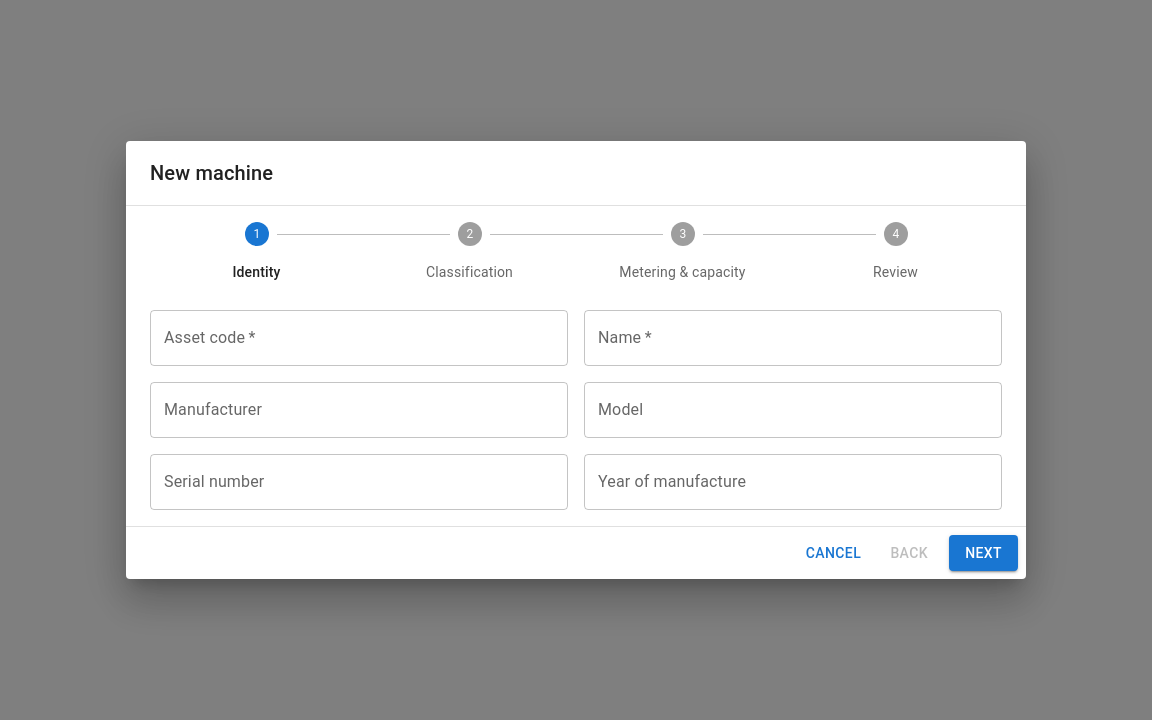
it: CreateMachineDialog › blocks Next while required identity fields are empty
Click the button "Next". click: {"x": 984, "y": 553}
box: [949,535,1018,571]
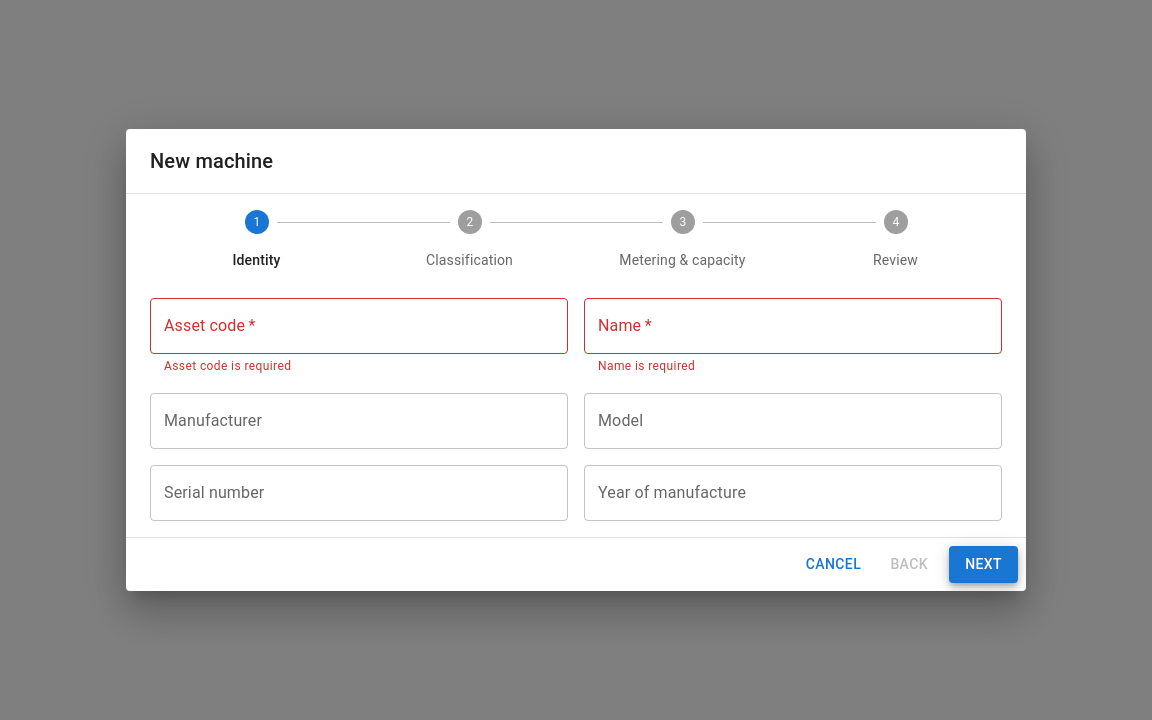
expect the text "Asset code is required" is shown: met, box [164,359,291,373]
